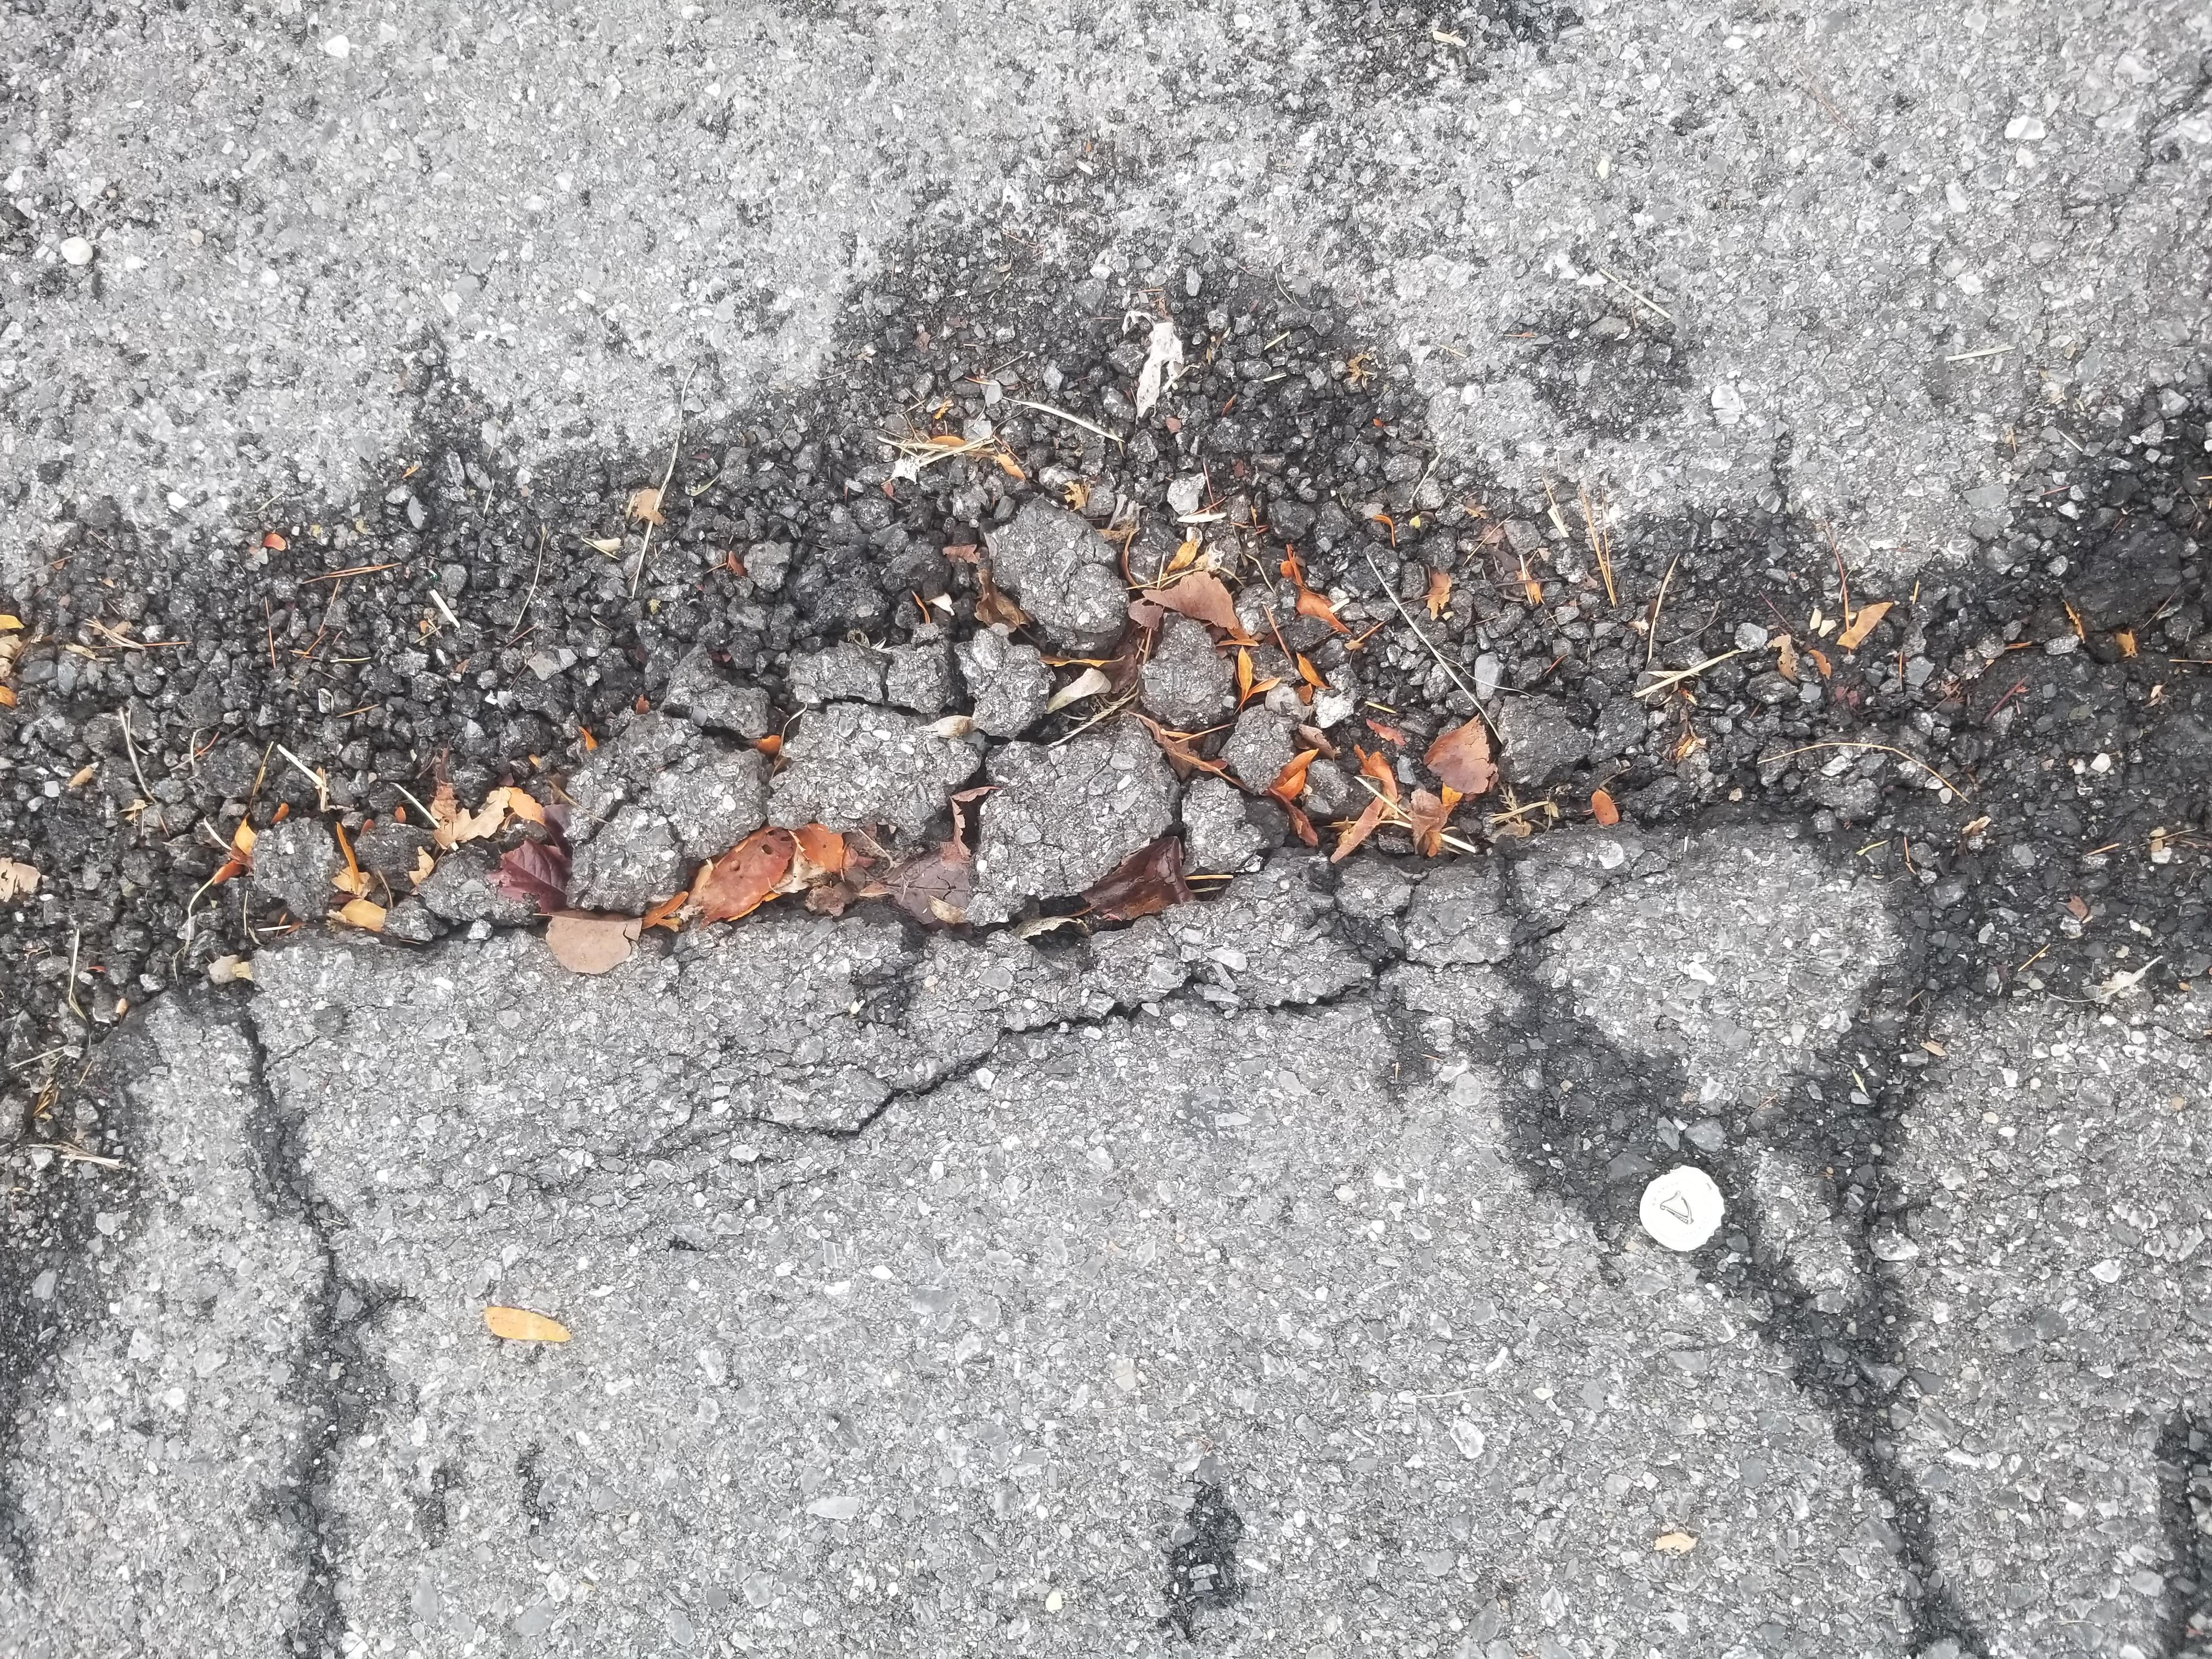alligator-crack: (732, 0, 2034, 1659)
crack: (0, 1073, 672, 1659), (7, 136, 678, 354)
